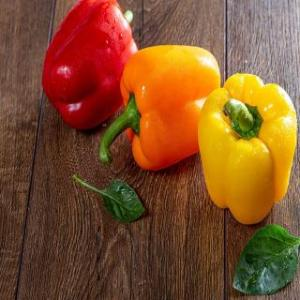bell_pepper: (98, 44, 228, 180), (199, 70, 299, 220), (33, 0, 140, 136)
